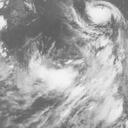cyclone: (46, 48, 110, 107), (85, 3, 115, 27)
